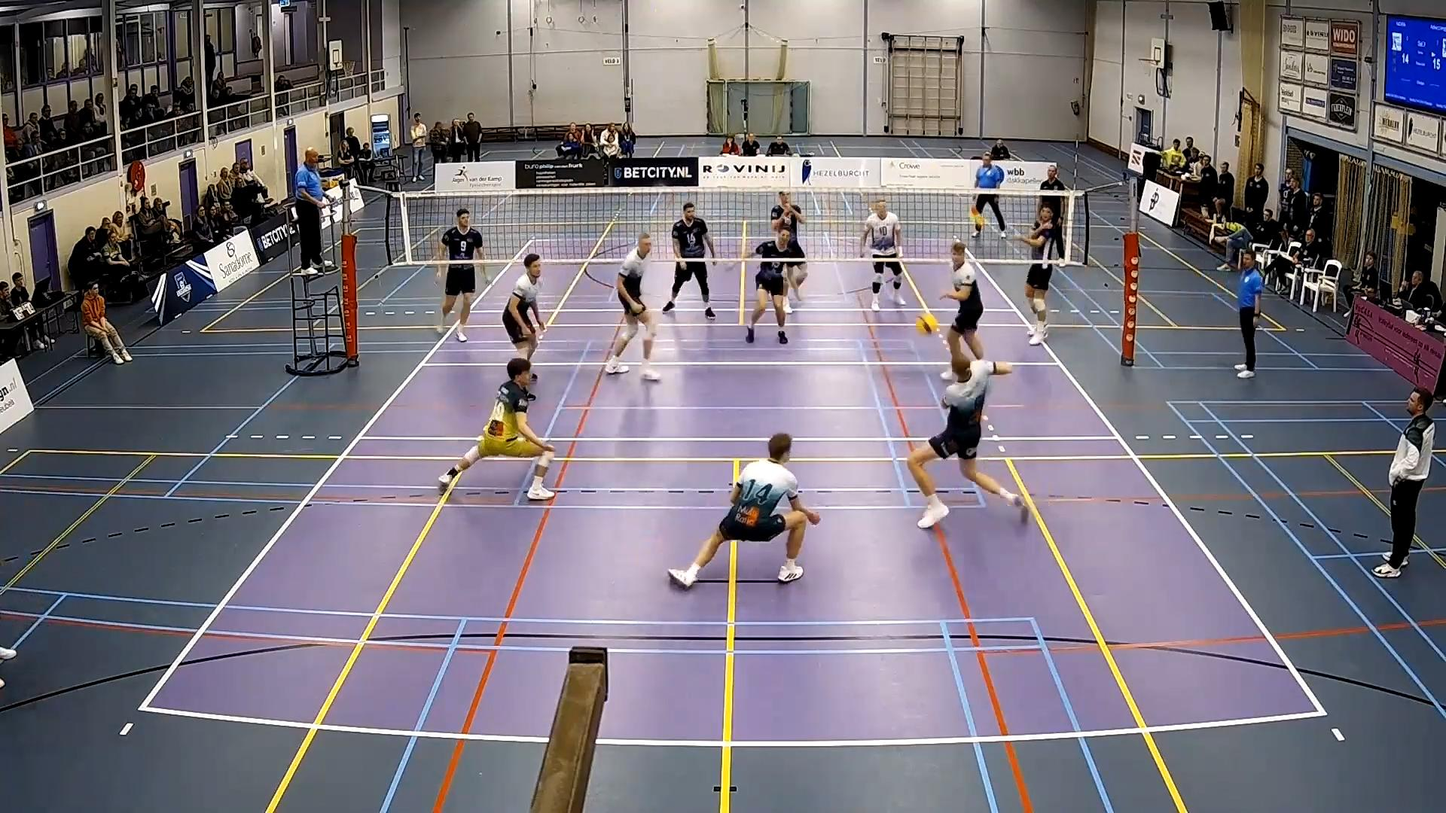Dig: (908, 331, 1028, 533)
Player: (669, 434, 819, 587), (439, 358, 554, 500), (604, 233, 660, 380), (746, 228, 804, 343), (662, 202, 716, 318), (438, 208, 484, 341), (941, 241, 984, 380), (1019, 206, 1060, 345), (859, 199, 905, 310), (502, 253, 545, 359), (770, 191, 806, 242)
ball: (917, 314, 944, 334)
